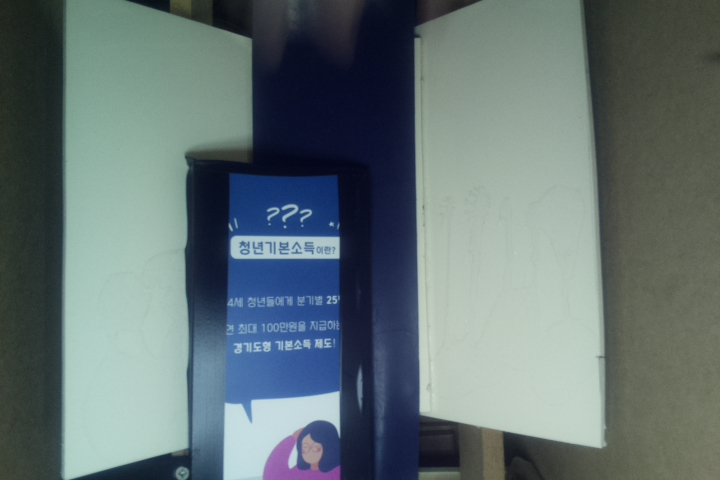book: (186, 155, 374, 480)
